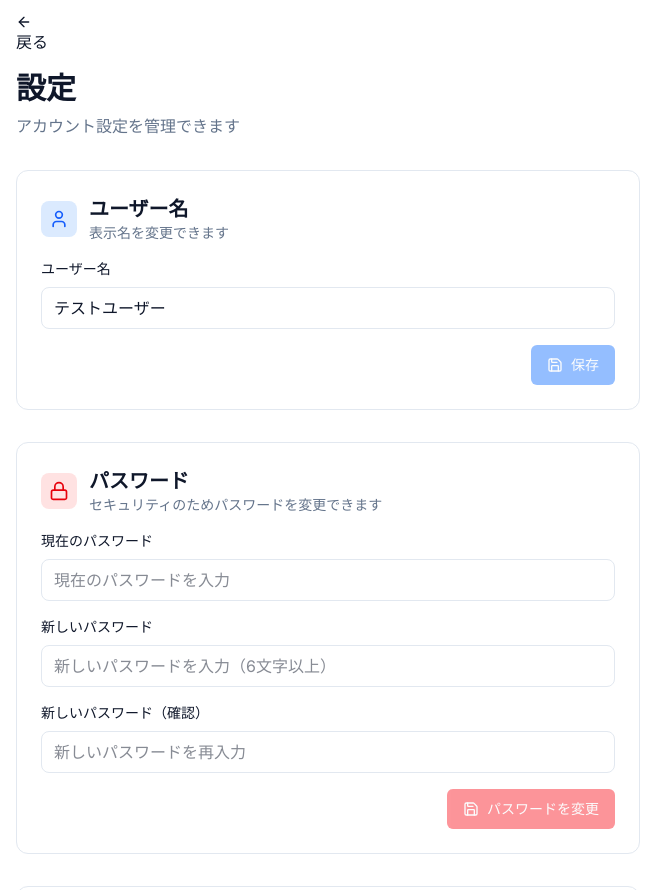
Scenario: SettingsPage › should enable password update button when all fields are filled
Note: Fill all password fields
Type "currentPass123" into the password field with placeholder "現在のパスワードを入力". click: (328, 580)
box: [41,559,615,601]
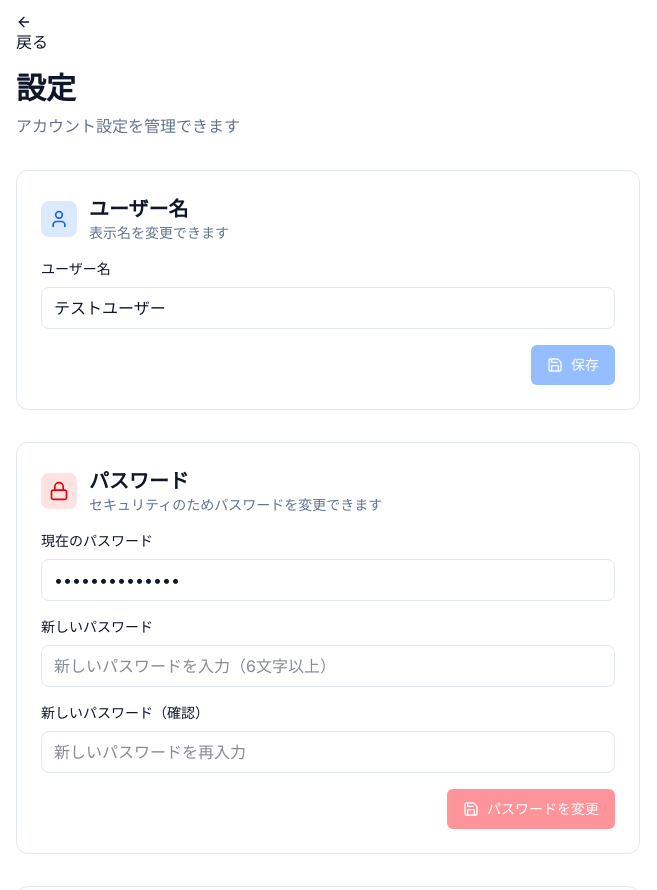
Type "newPass123456" into the password field with placeholder "新しいパスワードを入力（6文字以上）". click: (328, 666)
box: [41,645,615,687]
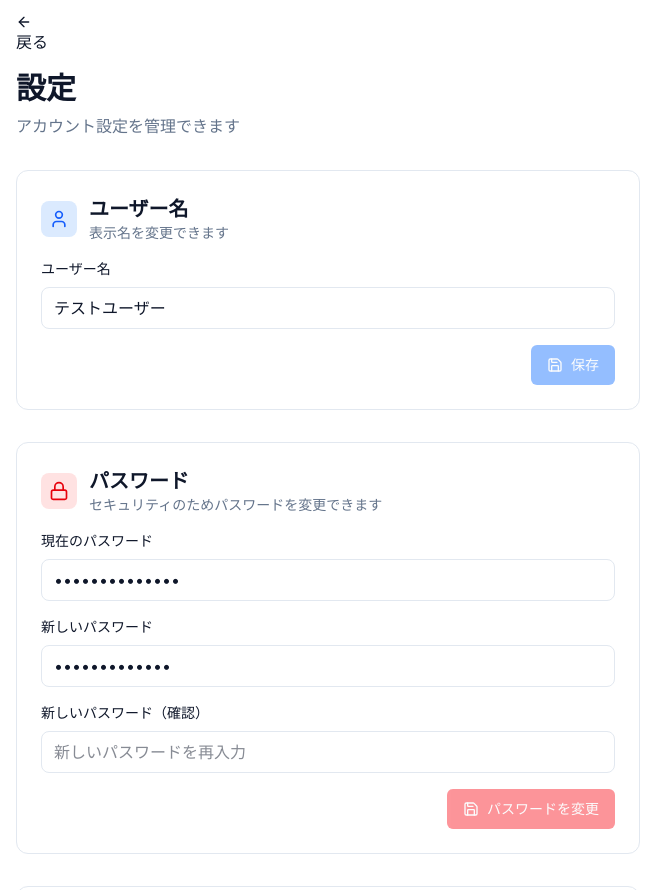
Type "newPass123456" into the password field with placeholder "新しいパスワードを再入力". click: (328, 752)
box: [41,731,615,773]
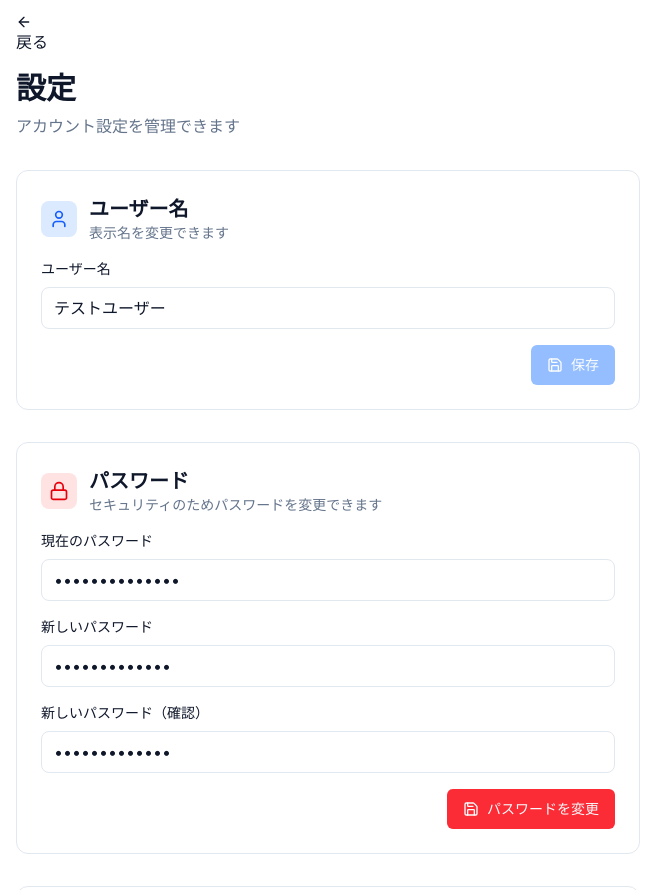
Expected: the button "パスワードを変更" is enabled, [447,789,615,829]
